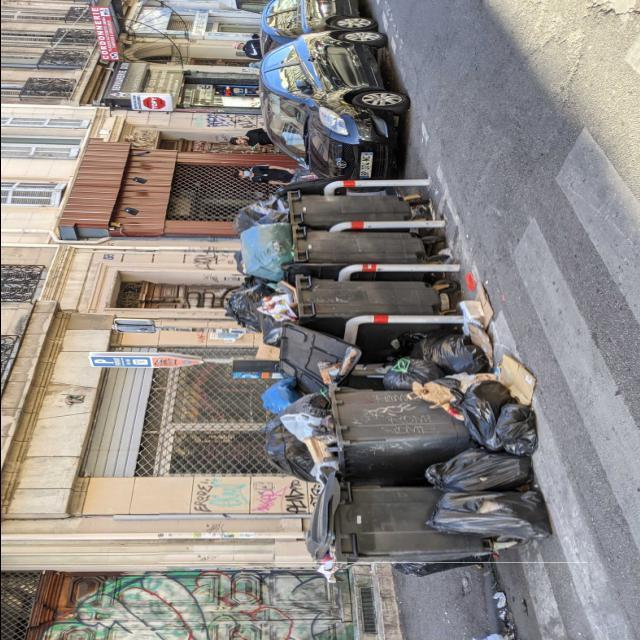Trashbag: (429, 490, 566, 542), (412, 442, 526, 493), (415, 331, 488, 371), (494, 399, 538, 452), (381, 355, 445, 390), (451, 382, 496, 431)
